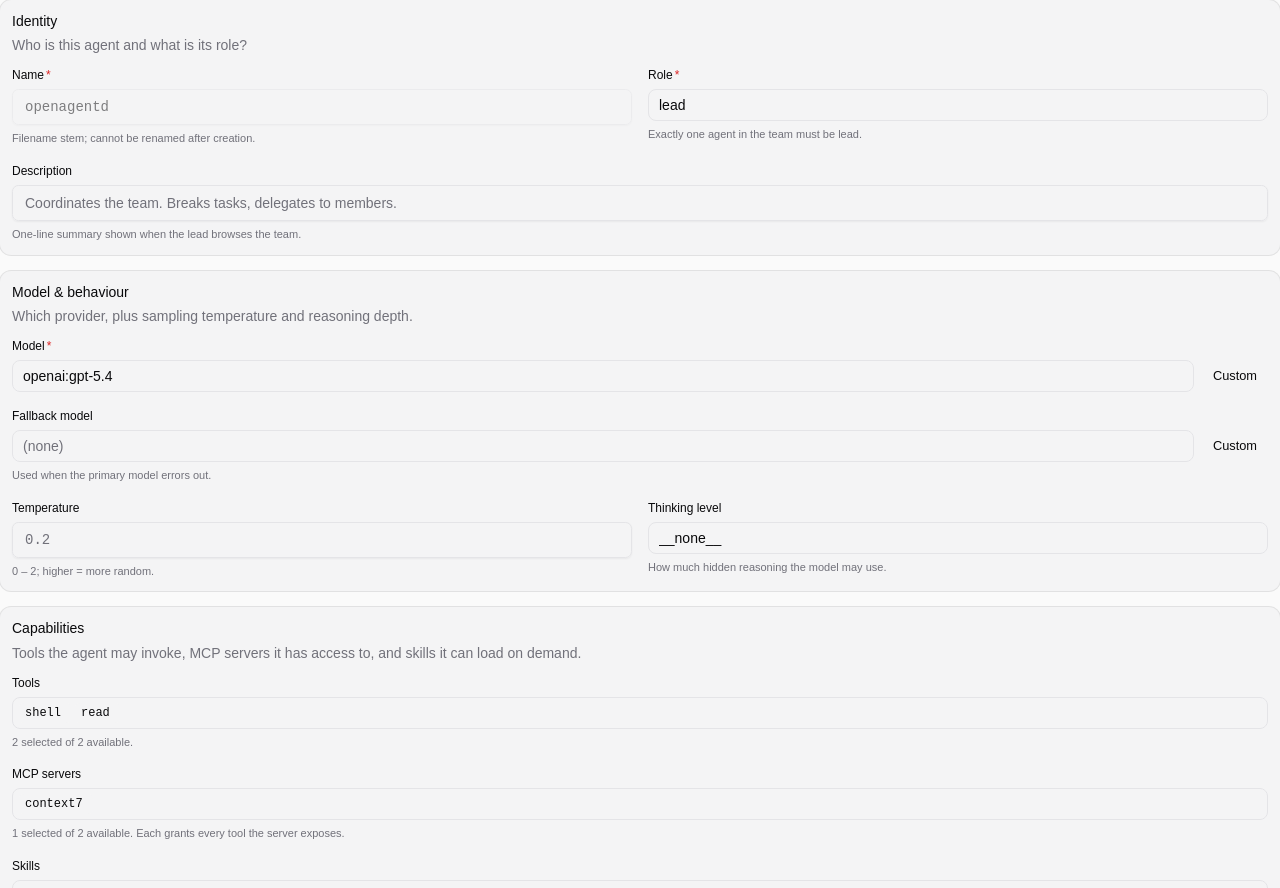
Scenario: AgentForm — Capabilities card › hides mcp_* prefixed entries from the Tools picker
The width and height of the screenshot is (1280, 888).
Step 1. Click the dropdown labelled "shell read" → click(640, 713), box x1=12 y1=697 x2=1268 y2=729
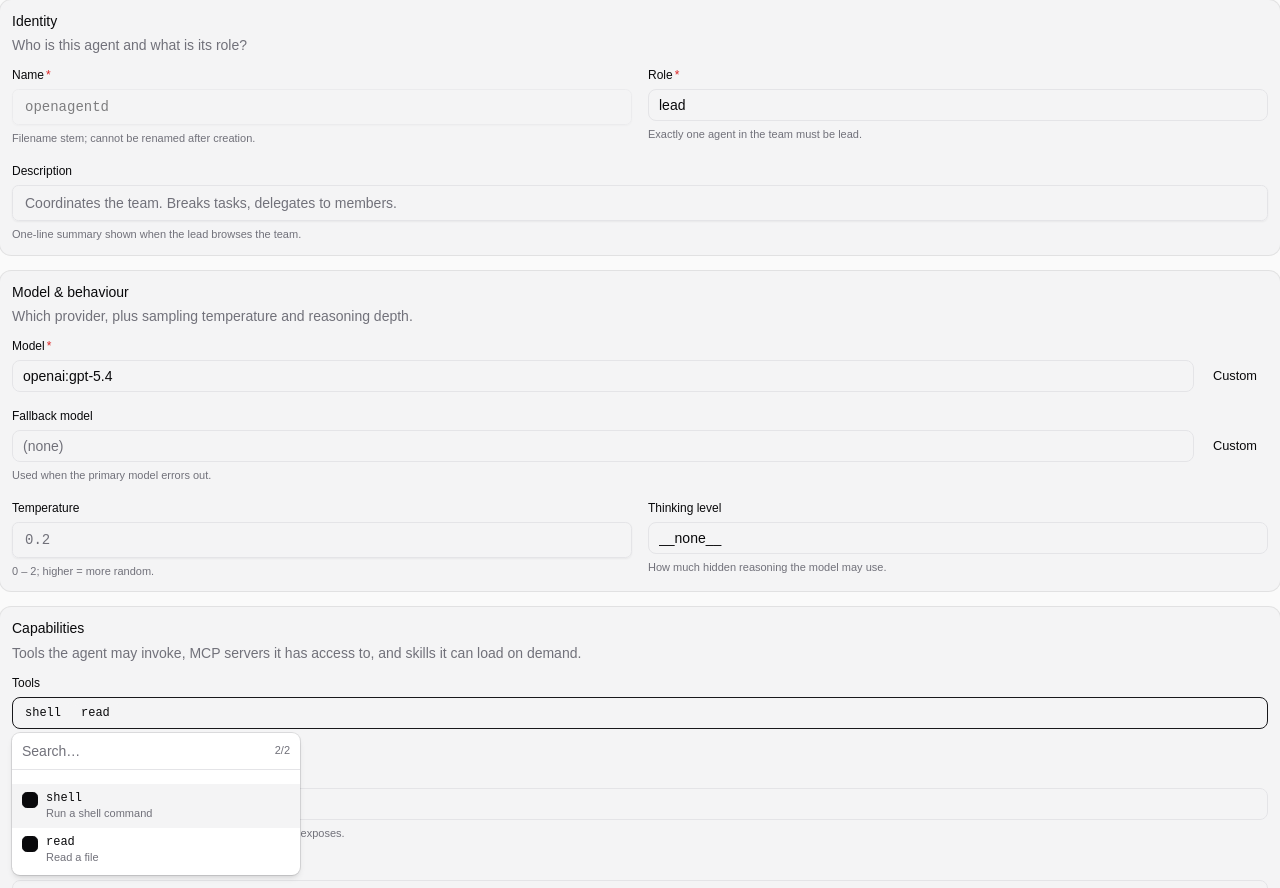
Step 2. Type "mcp_" into the field named "Search options" → (144, 751), box x1=22 y1=741 x2=267 y2=761
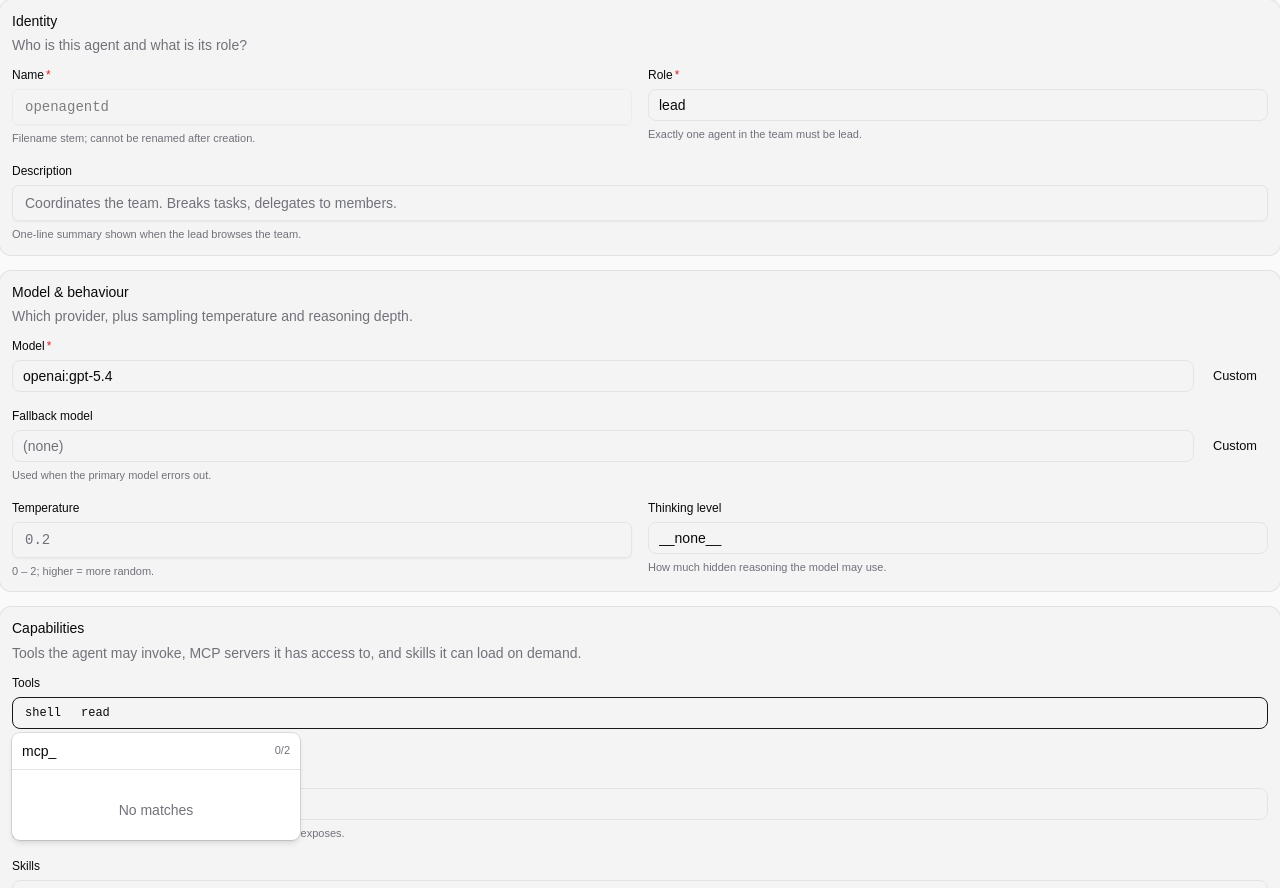
Result: the text "0/2" is shown at x1=275 y1=743 x2=290 y2=759
